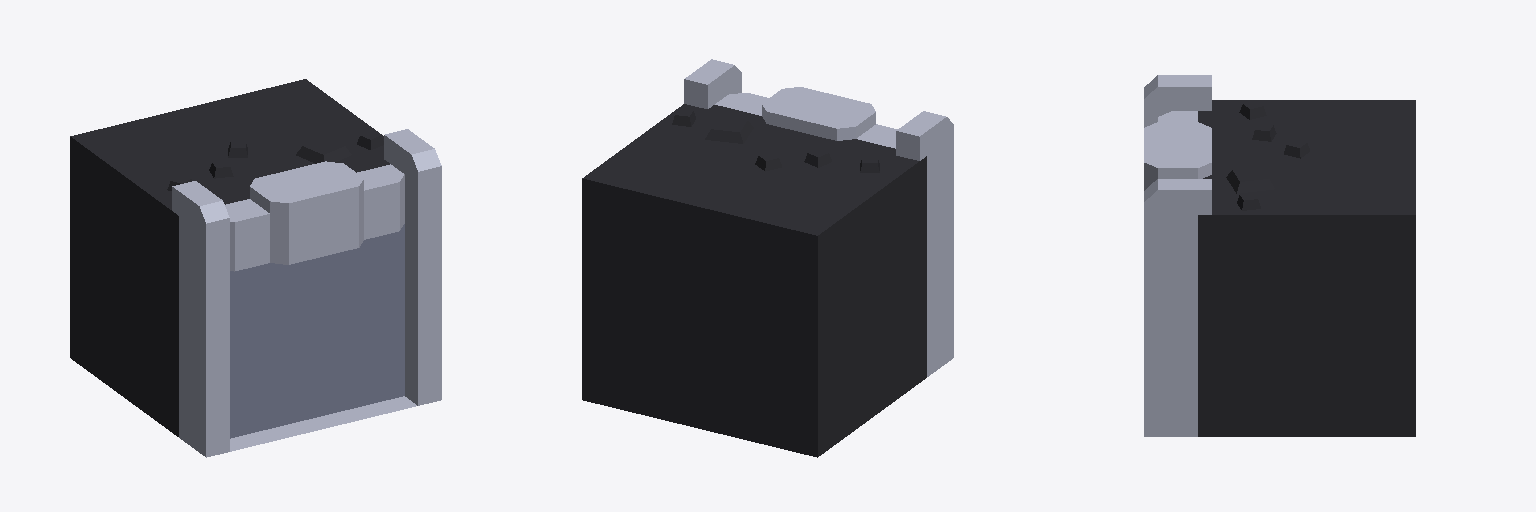
File: wall-half.obj
3 views of the same model, side by side, from view 1: azimuth 30°, elevation 25°; view 2: azimuth 150°, elevation 25°; view 3: azimuth 270°, elevation 25° (orthographic).
Parts seen in each view (by area): view 1: wall-half; view 2: wall-half; view 3: wall-half.
Boxes of the visible parts, x1,y1,x2,y2 form: wall-half: [70, 79, 441, 457]; wall-half: [582, 59, 953, 457]; wall-half: [1144, 75, 1415, 436].
Size of the model in its own units: 1 by 1 by 1.